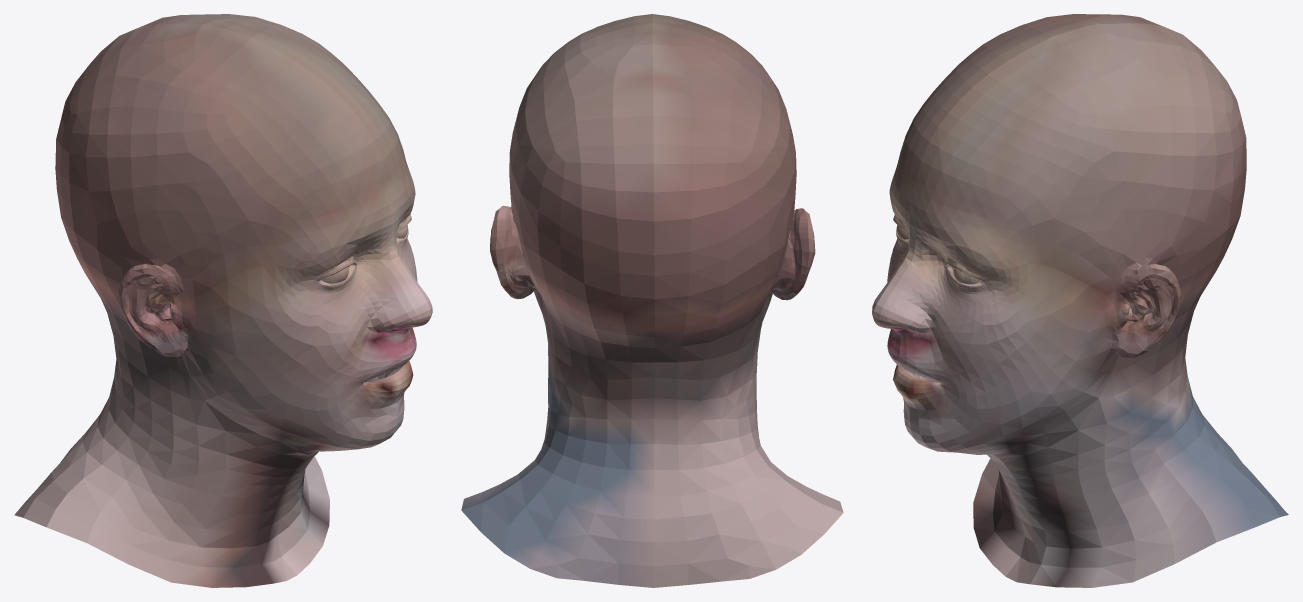
Rendered from deca_vertex_colored.obj.
The picture shows the model from 3 angles, left to right: view 1: azimuth 30°, elevation 25°; view 2: azimuth 150°, elevation 25°; view 3: azimuth 270°, elevation 25°; orthographic projection.
Size of the model in its own units: 0.2118 by 0.3211 by 0.2287.
